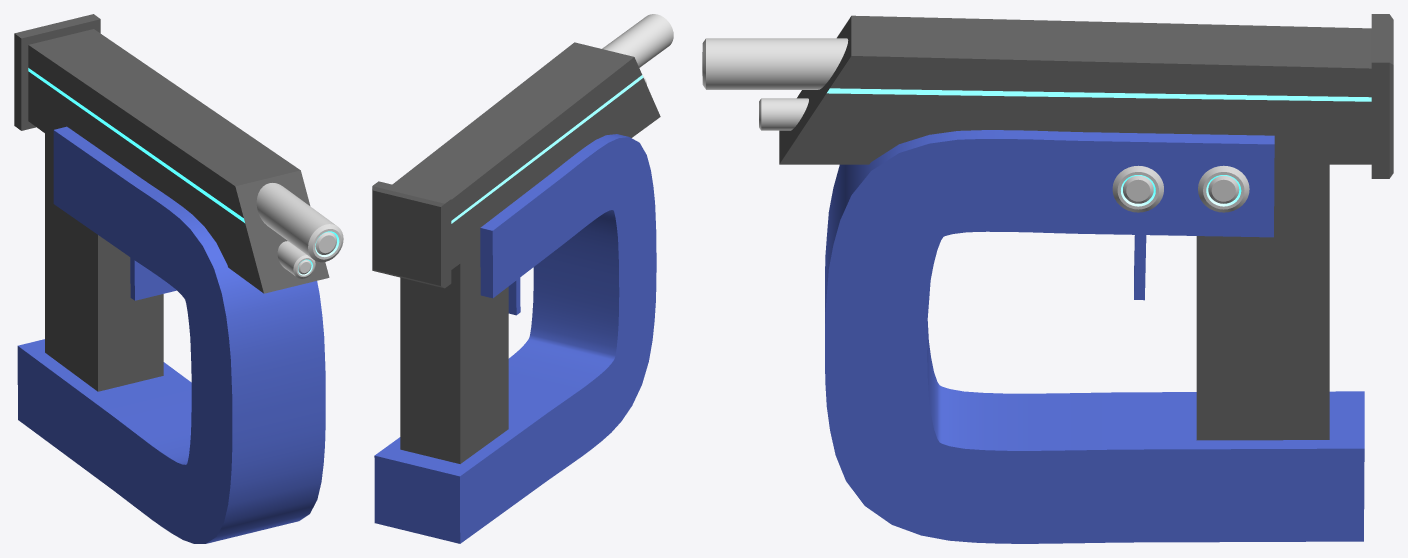
File: Repair Tool.fbx
3 views of the same model, side by side, from view 1: azimuth 30°, elevation 25°; view 2: azimuth 150°, elevation 25°; view 3: azimuth 270°, elevation 25° (orthographic). The views are drawn at different scales.
Visible parts, largest first — view 1: Circle.003; view 2: Circle.003; view 3: Circle.003.
Part boxes in pixels (x1,y1,x2,y2): Circle.003: [14, 14, 343, 543]; Circle.003: [372, 14, 673, 543]; Circle.003: [702, 14, 1393, 543].
Bounding box in the file's own units: 46.98 × 179 × 233.
